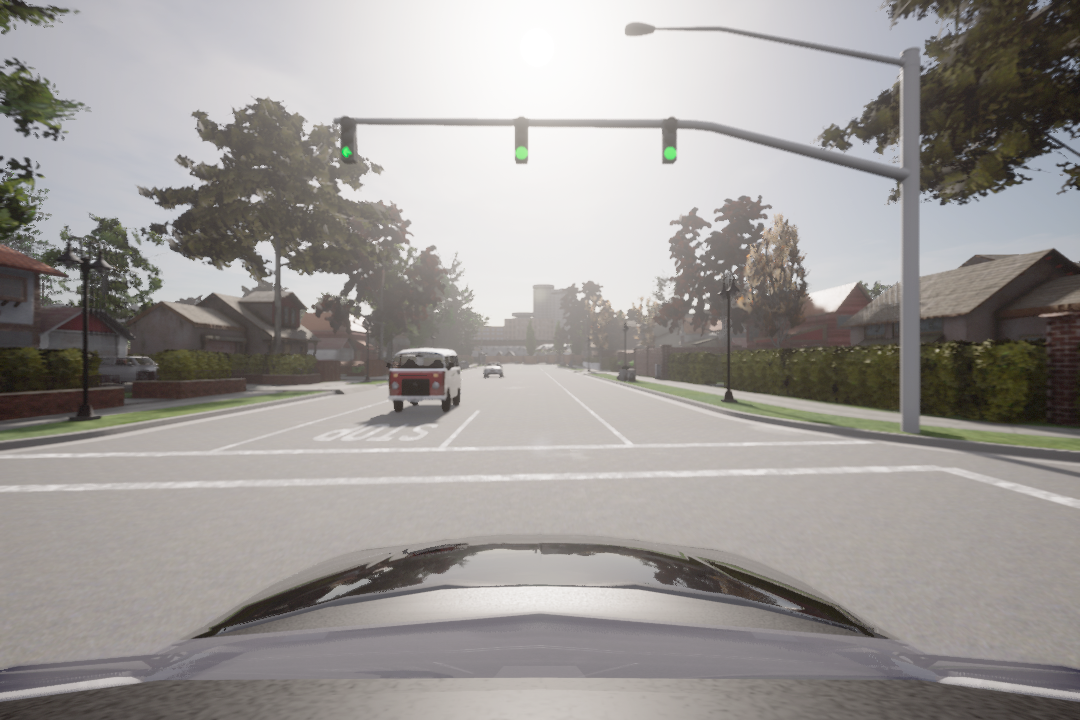TrafficLight: (332, 115, 363, 165), (514, 117, 531, 166), (664, 117, 677, 164)
